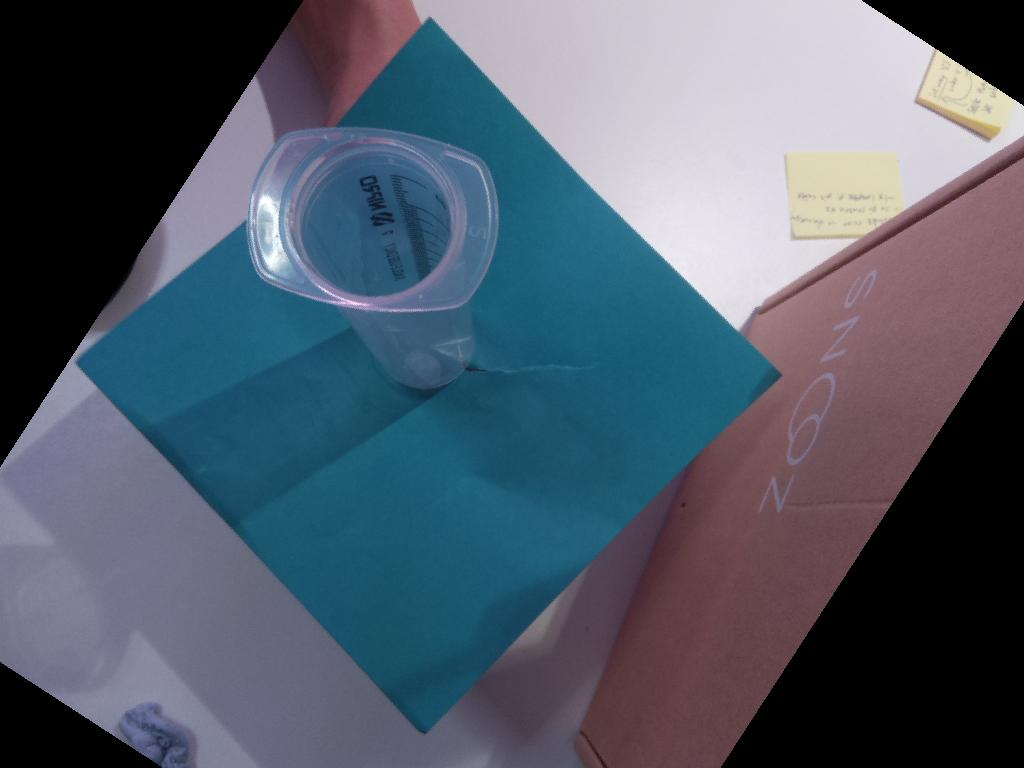clean: (247, 126, 501, 311)
